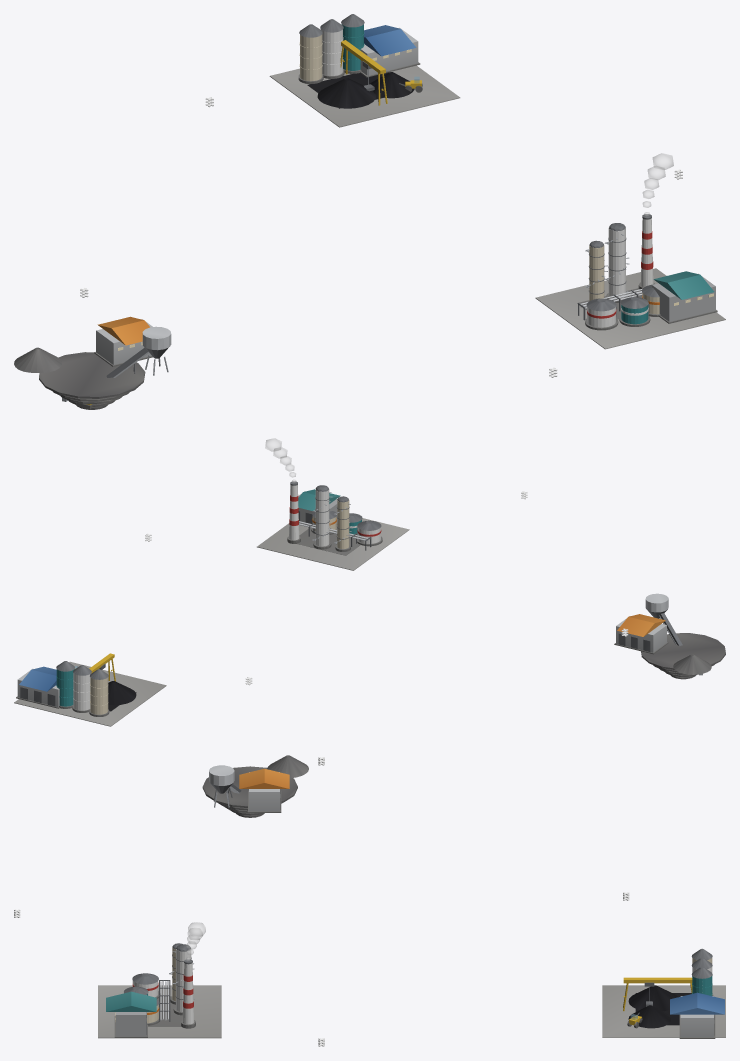
File: Sites_P3.fbx
The picture shows the model from 3 angles, top to bottom: view 1: azimuth 30°, elevation 25°; view 2: azimuth 150°, elevation 25°; view 3: azimuth 270°, elevation 25°; orthographic projection. The views are drawn at different scales.
Visible parts, largest first — view 1: Site.Store.Yard, Site.Plant.Pad, Site.Quarry.Benches, Site.Plant.Hall, Site.Store.Shed, Site.Quarry.Shed, Site.Plant.Col1, Site.Store.Silo0, Site.Store.Pile0, Site.Store.Silo1, Site.Plant.Col0, Site.Store.Silo2 (+8 smaller); view 2: Site.Plant.Pad, Site.Quarry.Benches, Site.Store.Yard, Site.Quarry.Shed, Site.Store.Shed, Site.Plant.Col1, Site.Store.Silo0, Site.Store.Silo1, Site.Store.Silo2, Site.Plant.Col0, Site.Plant.Hall, Site.Plant.Stack (+4 smaller); view 3: Site.Plant.Pad, Site.Store.Yard, Site.Store.Shed, Site.Plant.Hall, Site.Quarry.Shed, Site.Quarry.Benches, Site.Store.Pile0, Site.Plant.Stack, Site.Plant.Col1, Site.Quarry.Hopper, Site.Store.Gantry, Site.Store.Pile1 (+3 smaller).
Boxes of the visible parts, x1,y1,x2,y2 form: Site.Store.Yard: (269, 65, 460, 127); Site.Plant.Pad: (535, 268, 725, 349); Site.Quarry.Benches: (39, 352, 145, 409); Site.Plant.Hall: (652, 271, 717, 323); Site.Store.Shed: (360, 25, 420, 77); Site.Quarry.Shed: (94, 316, 152, 366); Site.Plant.Col1: (604, 223, 629, 302); Site.Store.Silo0: (298, 24, 323, 84); Site.Store.Pile0: (317, 78, 376, 108); Site.Store.Silo1: (320, 19, 344, 78); Site.Plant.Col0: (585, 240, 607, 301); Site.Store.Silo2: (341, 14, 364, 73); Site.Plant.Pad: (257, 518, 409, 570); Site.Quarry.Benches: (641, 633, 725, 679); Site.Store.Yard: (14, 661, 166, 726); Site.Quarry.Shed: (614, 614, 668, 654); Site.Store.Shed: (16, 666, 59, 708); Site.Plant.Col1: (312, 485, 332, 549); Site.Store.Silo0: (89, 669, 109, 716); Site.Store.Silo1: (72, 665, 91, 712); Site.Store.Silo2: (56, 661, 74, 708); Site.Plant.Col0: (334, 496, 351, 551); Site.Plant.Hall: (298, 489, 340, 526); Site.Plant.Stack: (287, 481, 300, 543); Site.Plant.Pad: (98, 985, 221, 1038); Site.Store.Yard: (602, 985, 725, 1037); Site.Store.Shed: (670, 992, 724, 1038); Site.Plant.Hall: (106, 991, 156, 1037); Site.Quarry.Shed: (239, 768, 289, 812); Site.Quarry.Benches: (202, 766, 297, 817); Site.Store.Pile0: (628, 985, 678, 1011); Site.Plant.Stack: (181, 959, 195, 1028); Site.Plant.Col1: (172, 944, 194, 1015); Site.Quarry.Hopper: (209, 765, 234, 807); Site.Store.Gantry: (623, 977, 692, 1011); Site.Store.Pile1: (628, 1005, 671, 1028).
Size of the model in its own units: 29448 by 5740 by 29934.
